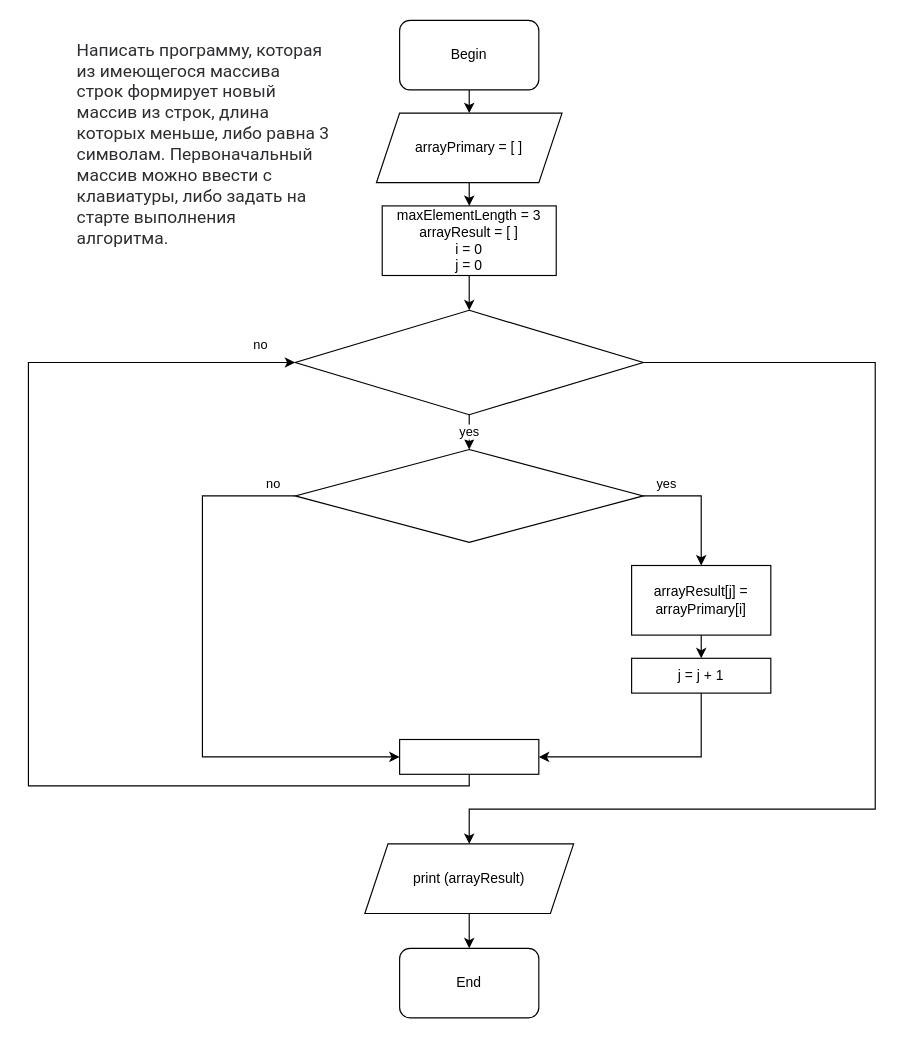
This 905x1038 diagram has some shape labels left out. The shapes that lost their labels are listed below. From the top down, each one's centre as x and y in pixels, then its label:
point 468,362: i < arrayPrimary.length
point 468,495: arrayPrimary[i].length < maxElementLength
point 468,756: i = i + 1
